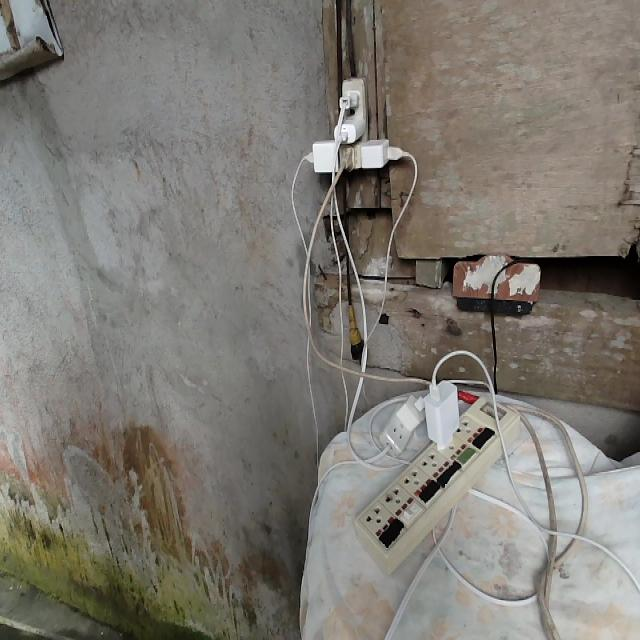-: (299, 75, 411, 181)
